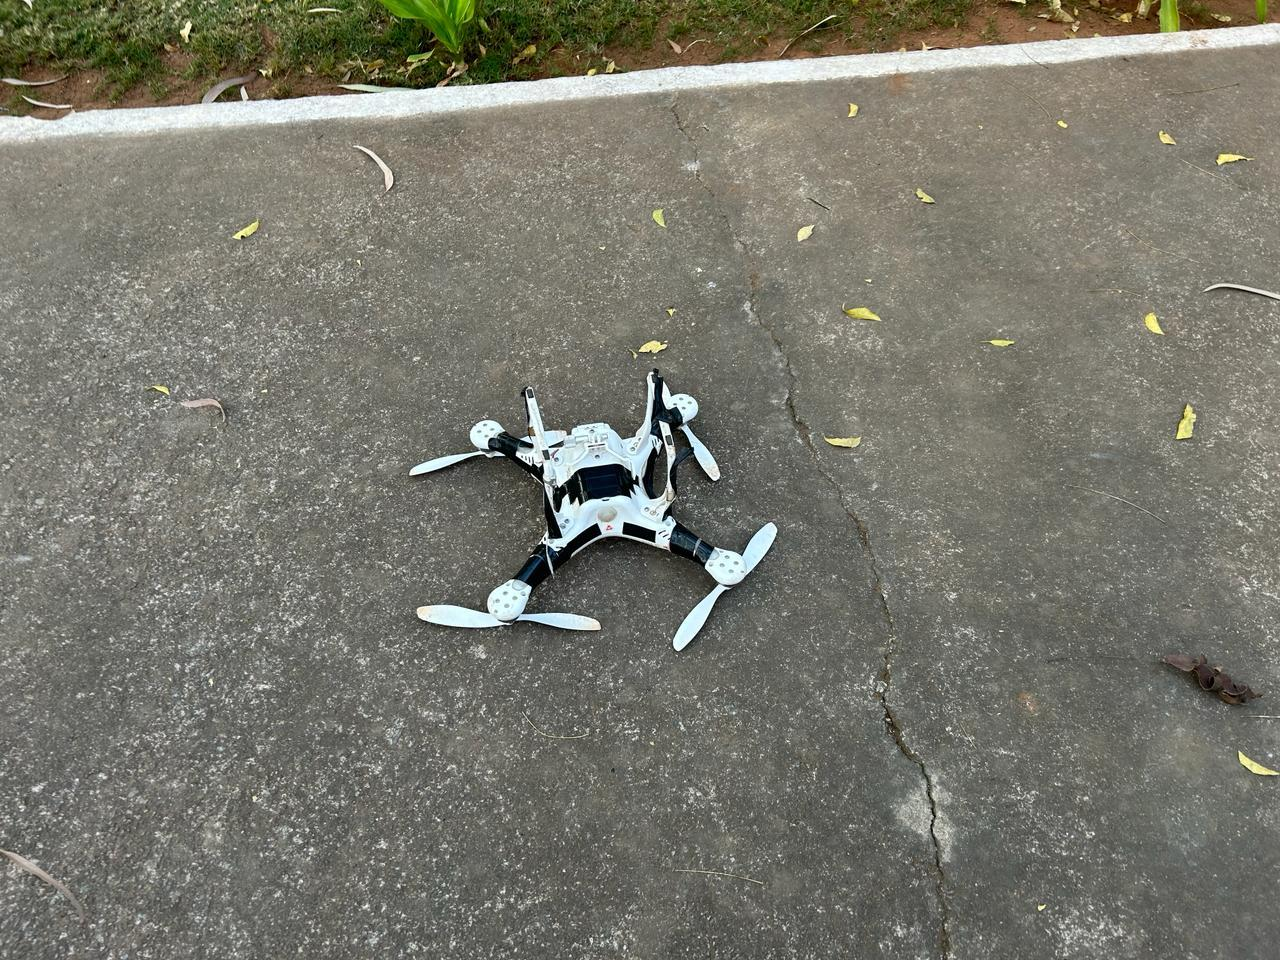drone: (180, 262, 1028, 758)
